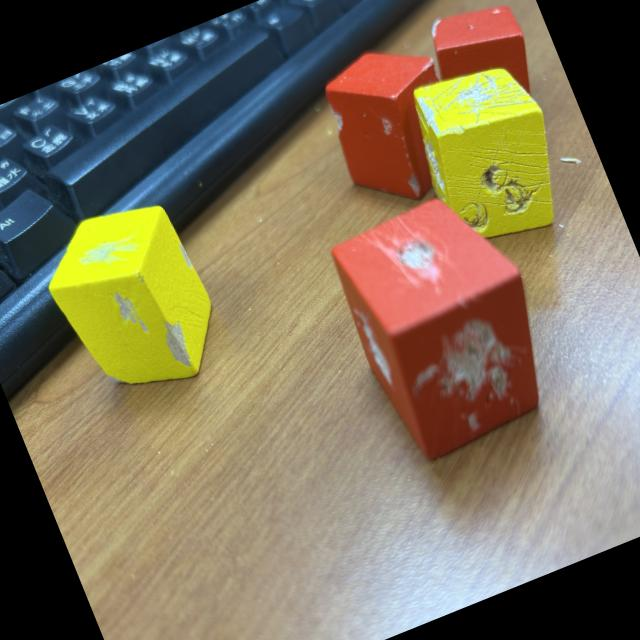broken: (321, 180, 572, 467), (28, 187, 235, 415), (310, 30, 479, 220), (415, 0, 549, 138)
